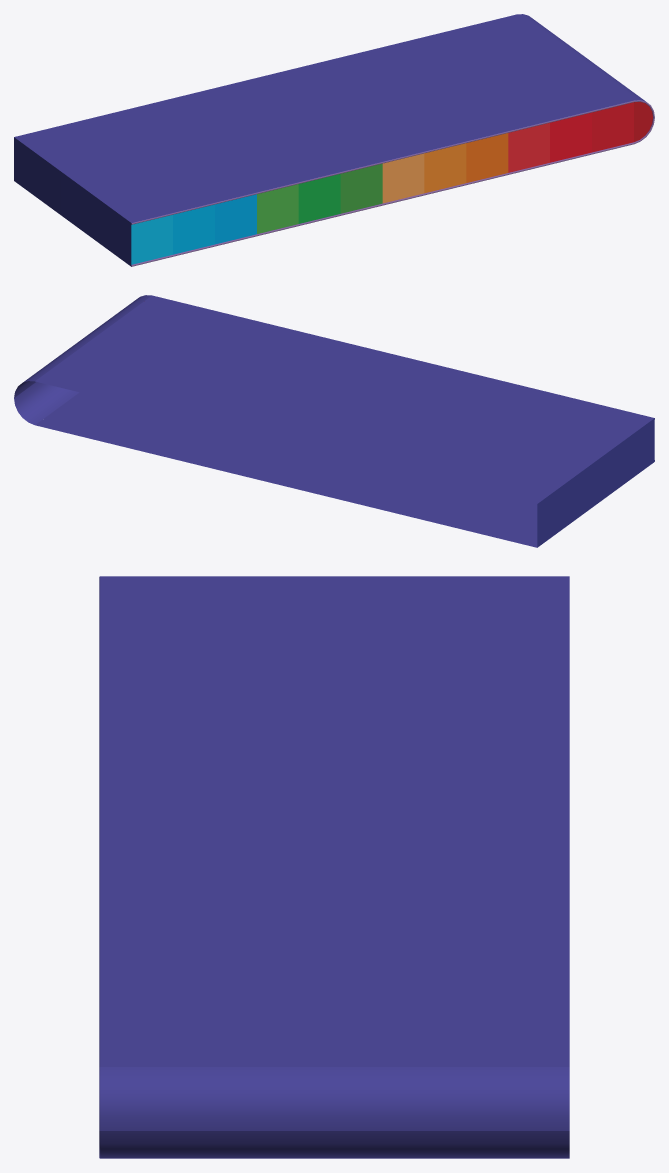
The model's file is Road_final_04.fbx.
3 renders of one model, top to bottom at view 1: azimuth 30°, elevation 25°; view 2: azimuth 150°, elevation 25°; view 3: azimuth 270°, elevation 25°, orthographic. The views are drawn at different scales.
Parts seen in each view (by area): view 1: Road_final_04; view 2: Road_final_04; view 3: Road_final_04.
Part boxes in pixels (x1,y1,x2,y2): Road_final_04: (14,14,654,266); Road_final_04: (14,295,654,547); Road_final_04: (99,576,569,1158).
Size of the model in its own units: 6284 by 2447 by 503.
